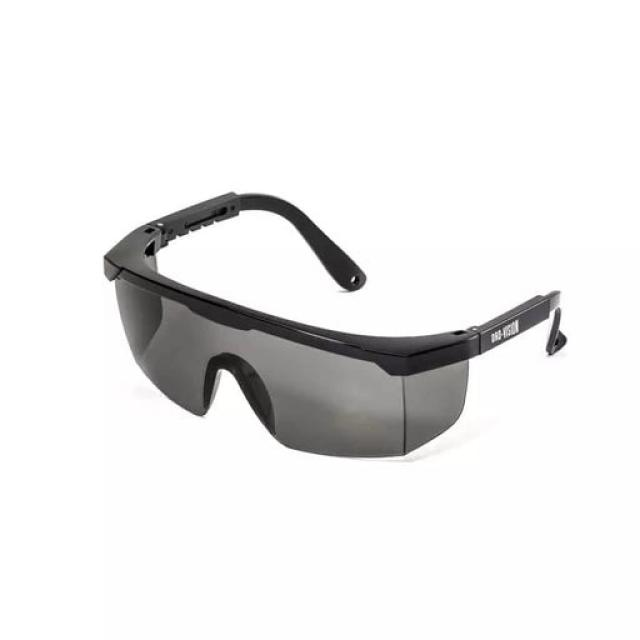Protective Glasses: (76, 164, 594, 490)
